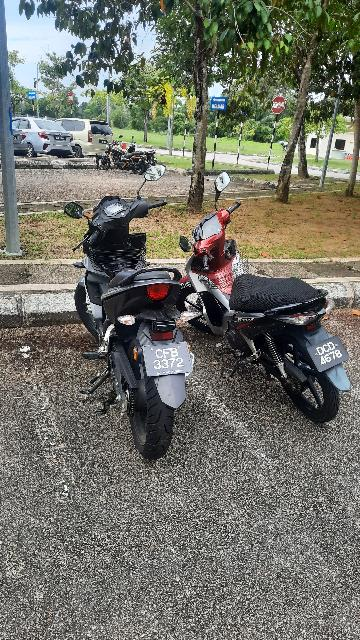License_Plate: (141, 335, 194, 381), (307, 334, 353, 374)
motorcycle: (177, 158, 360, 426), (62, 155, 205, 463)
